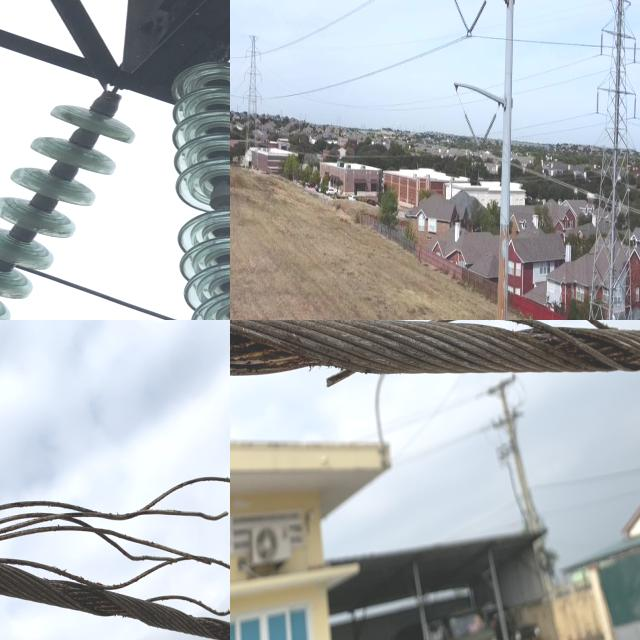杆塔: (575, 0, 640, 320), (234, 21, 268, 177)
正常电缆: (0, 243, 223, 320)
正常绝缘子: (0, 78, 155, 320), (165, 51, 230, 320), (474, 107, 500, 165), (463, 0, 491, 45), (459, 103, 484, 153), (451, 0, 475, 43), (592, 83, 604, 123), (597, 23, 608, 66), (629, 86, 640, 128), (629, 28, 640, 68)
电缆破损: (0, 449, 230, 640), (230, 320, 640, 388)
绝缘子破损: (207, 189, 230, 209)
